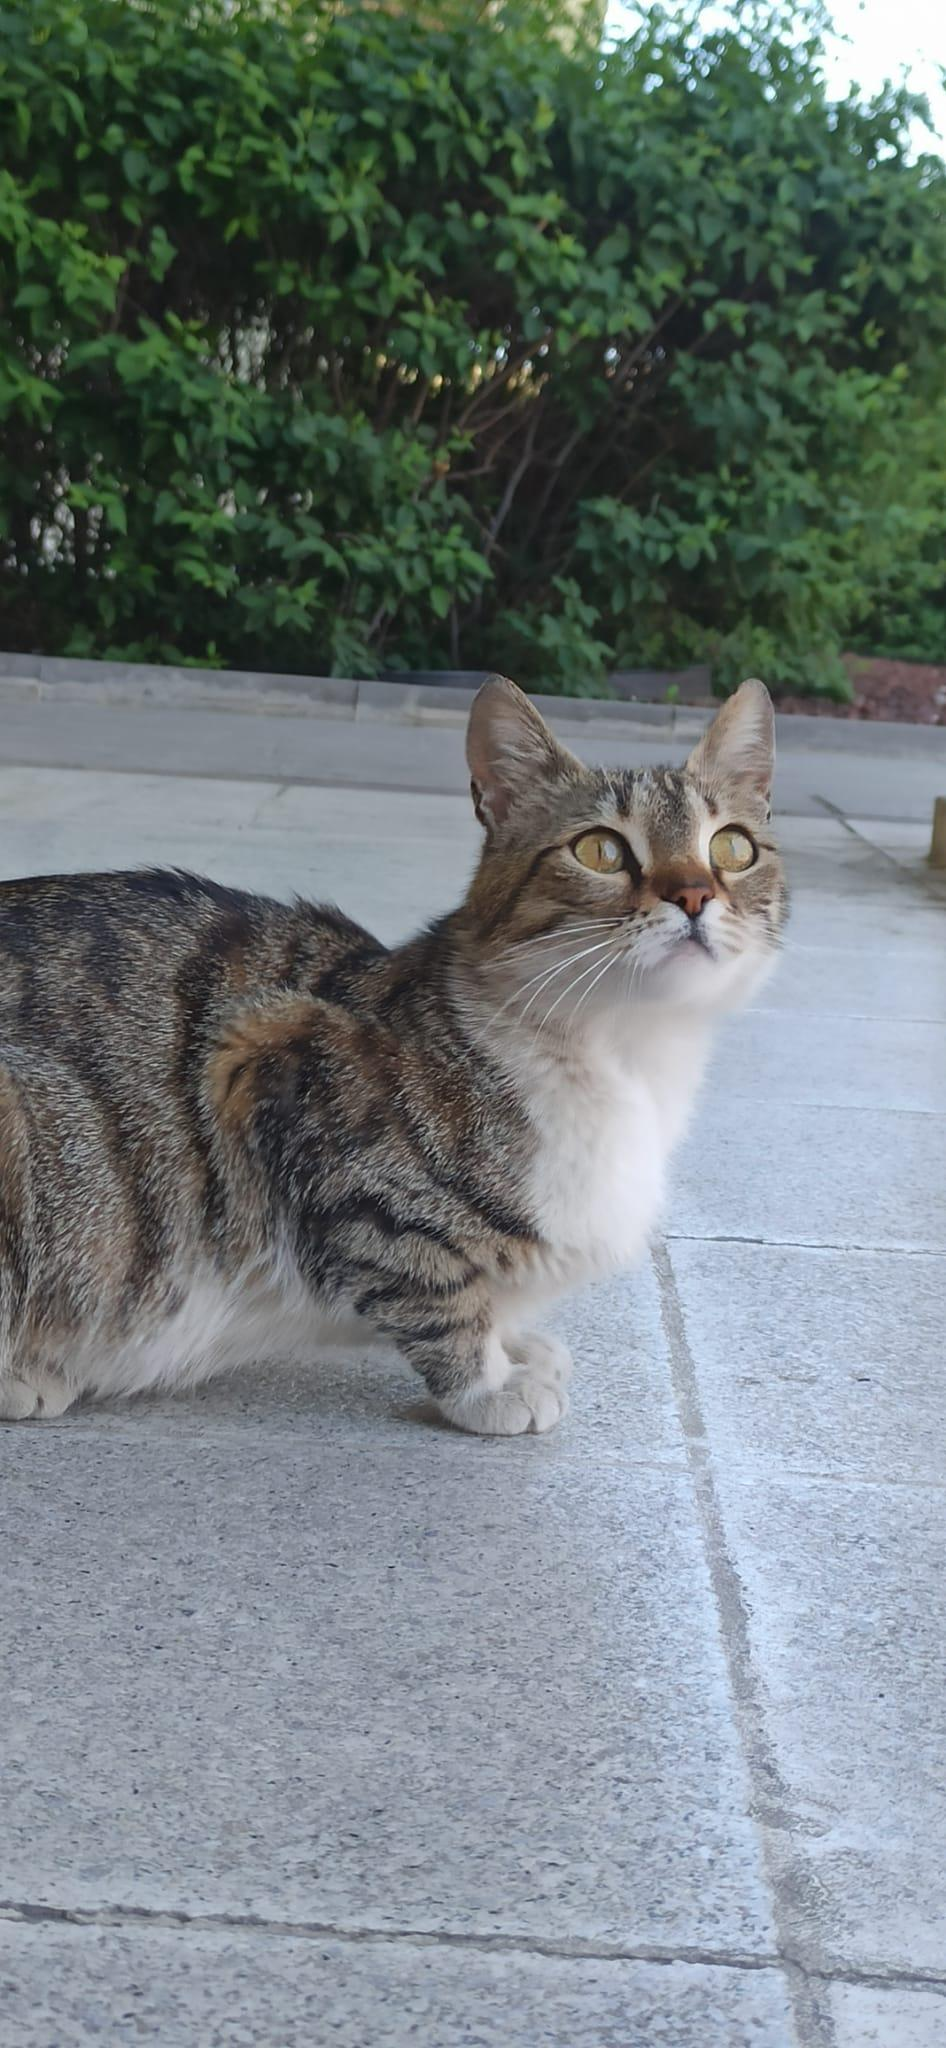kedo: (17, 670, 788, 1429)
